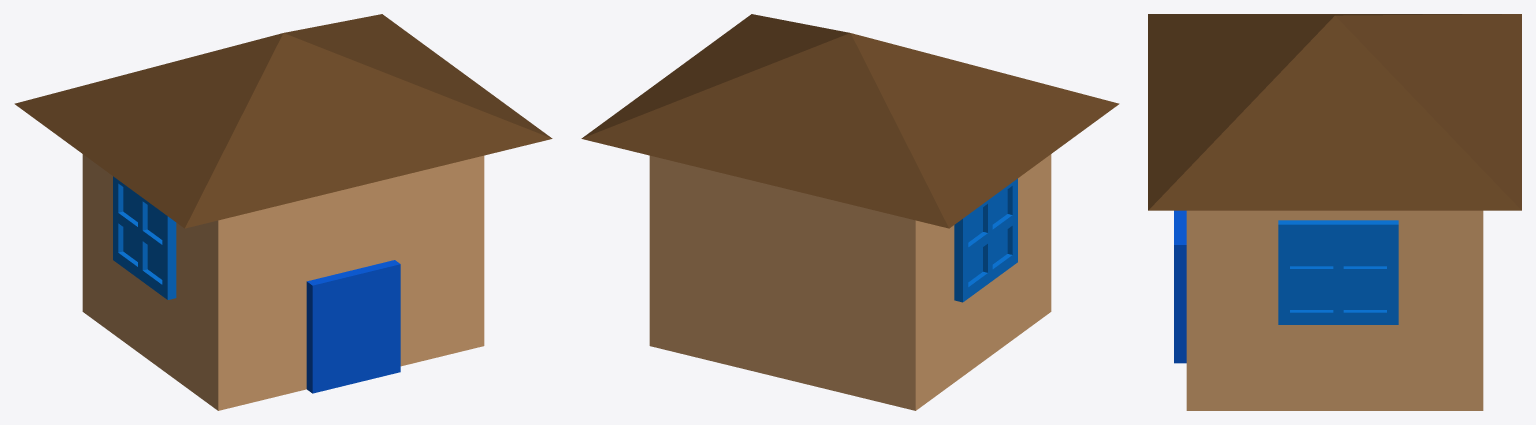
File: CASA_SIMPLES.fbx
3 renders of one model, left to right at view 1: azimuth 30°, elevation 25°; view 2: azimuth 150°, elevation 25°; view 3: azimuth 270°, elevation 25°, orthographic. The views are drawn at different scales.
Parts seen in each view (by area): view 1: TETO, CASA, PORTA, JANELA; view 2: CASA, TETO, JANELA; view 3: TETO, CASA, JANELA, PORTA.
Boxes of the visible parts, x1,y1,x2,y2 form: TETO: (14, 14, 552, 228); CASA: (82, 154, 484, 410); PORTA: (306, 260, 400, 393); JANELA: (113, 176, 176, 299); CASA: (649, 154, 1051, 410); TETO: (581, 14, 1119, 228); JANELA: (954, 178, 1017, 302); TETO: (1148, 14, 1521, 210); CASA: (1186, 210, 1483, 410); JANELA: (1278, 220, 1398, 324); PORTA: (1174, 210, 1186, 363).
Size of the model in its own units: 153 by 117 by 123.
